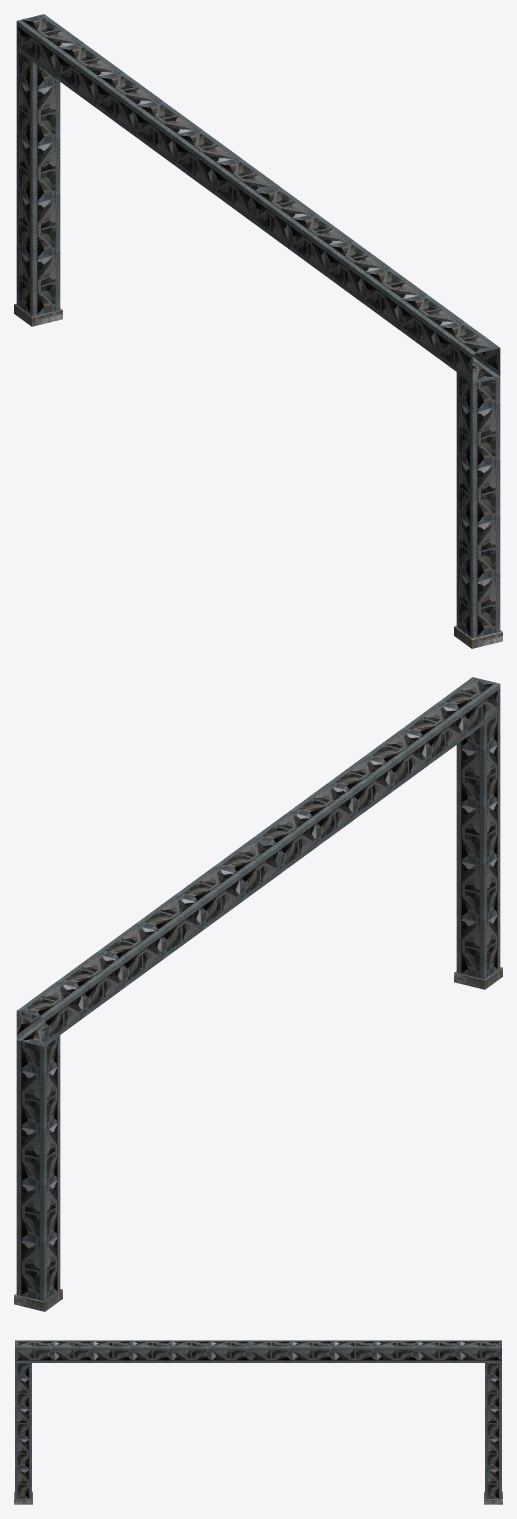
Rendered from ExtrutureMetalic.fbx.
The picture shows the model from 3 angles, top to bottom: view 1: azimuth 30°, elevation 25°; view 2: azimuth 150°, elevation 25°; view 3: azimuth 270°, elevation 25°; orthographic projection. The views are drawn at different scales.
Visible parts, largest first — view 1: ExtrutureMetalic; view 2: ExtrutureMetalic; view 3: ExtrutureMetalic.
Part boxes in pixels (<box>): ExtrutureMetalic: <box>14,14,502,648</box>; ExtrutureMetalic: <box>14,677,502,1311</box>; ExtrutureMetalic: <box>14,1340,502,1504</box>.
Size of what is drawn, in the model's own units: 71.68 by 647 by 1832.
